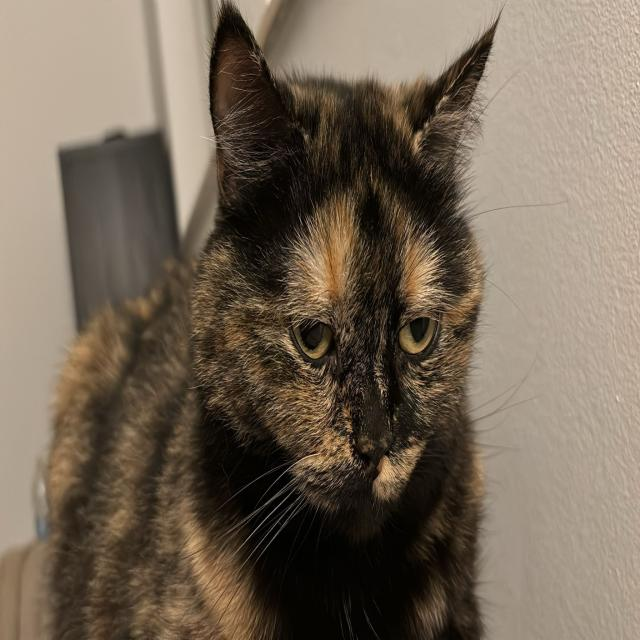authorized: (42, 0, 546, 638)
